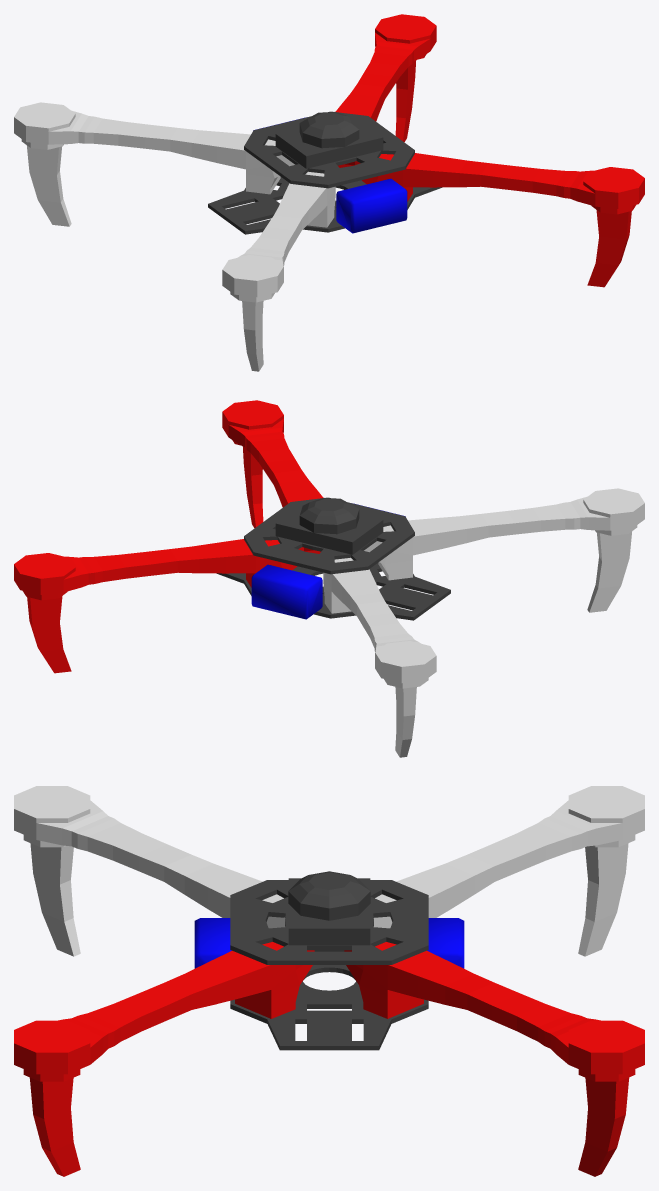
Rendered from SimpleF450.fbx.
The picture shows the model from 3 angles, top to bottom: view 1: azimuth 30°, elevation 25°; view 2: azimuth 150°, elevation 25°; view 3: azimuth 270°, elevation 25°; orthographic projection. The views are drawn at different scales.
Visible parts, largest first — view 1: SimpleF450; view 2: SimpleF450; view 3: SimpleF450.
Part boxes in pixels (<box>): SimpleF450: <box>14,14,644,371</box>; SimpleF450: <box>14,400,644,757</box>; SimpleF450: <box>14,786,644,1176</box>.
Size of the model in its own units: 37.41 by 11.81 by 37.41.
